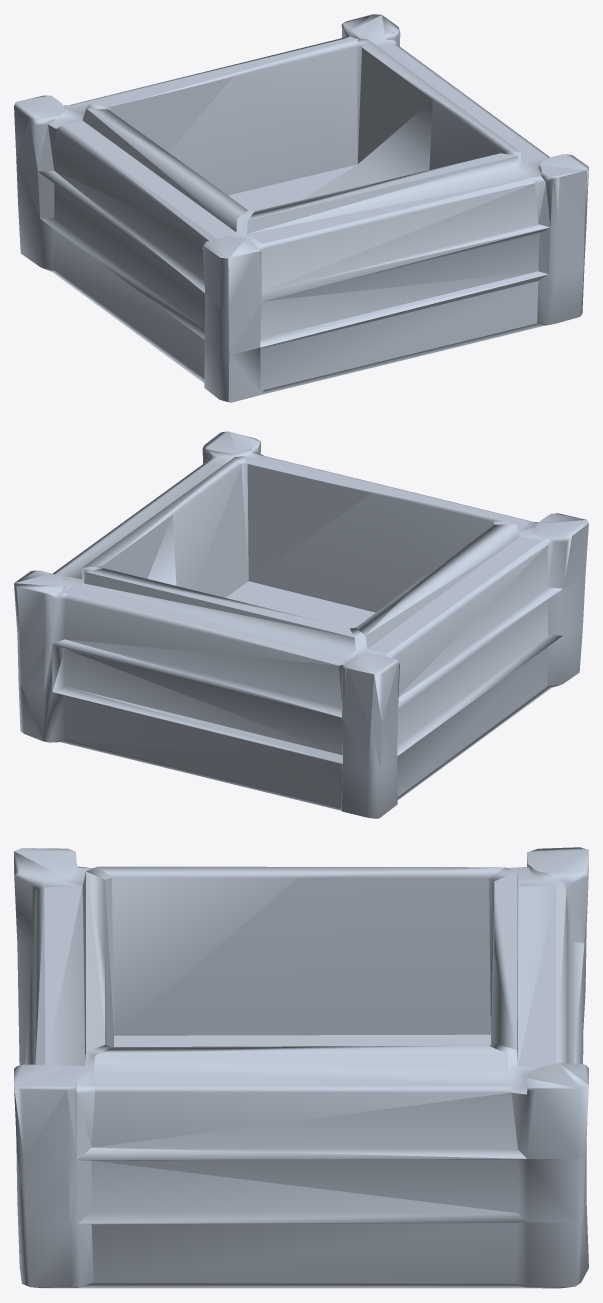
File: Wooden Box.fbx
The picture shows the model from 3 angles, top to bottom: view 1: azimuth 30°, elevation 25°; view 2: azimuth 150°, elevation 25°; view 3: azimuth 270°, elevation 25°; orthographic projection. The views are drawn at different scales.
Parts seen in each view (by area): view 1: MeshTransformExportRoot; view 2: MeshTransformExportRoot; view 3: MeshTransformExportRoot.
Part boxes in pixels (box(x1,y1,x2,y2)): MeshTransformExportRoot: box(14, 14, 588, 402); MeshTransformExportRoot: box(14, 431, 588, 818); MeshTransformExportRoot: box(14, 847, 588, 1288).
Bounding box in the file's own units: 48.51 × 20.44 × 48.51.
